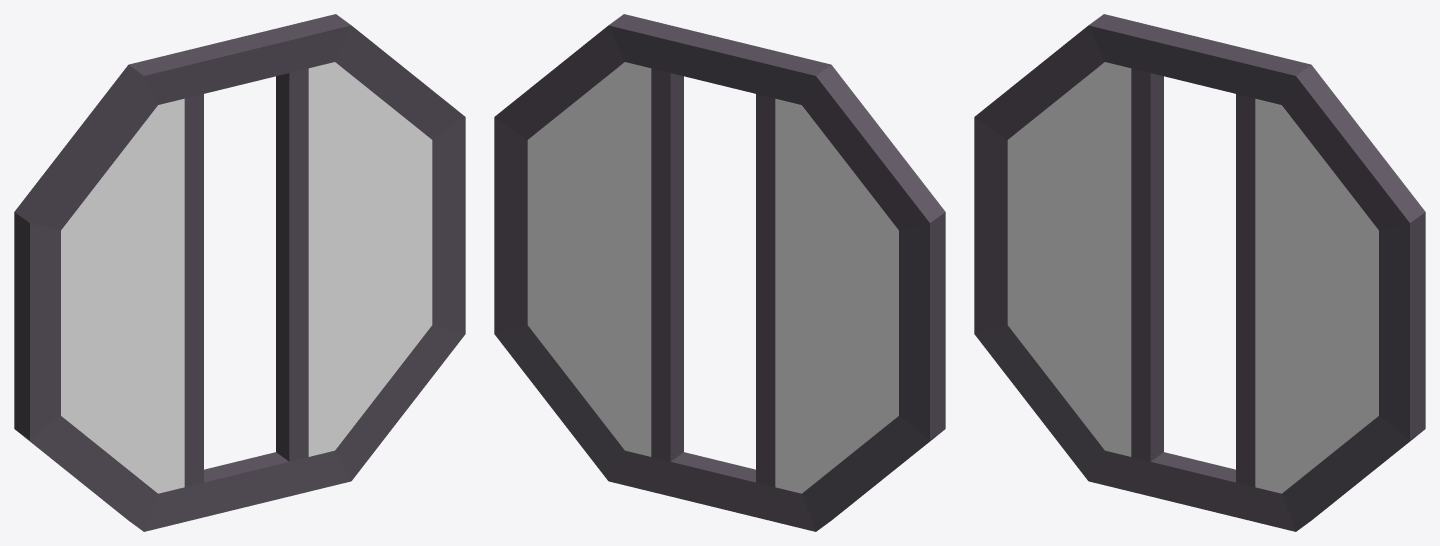
The model's file is Obstacle04.fbx.
The picture shows the model from 3 angles, left to right: view 1: azimuth 30°, elevation 25°; view 2: azimuth 150°, elevation 25°; view 3: azimuth 330°, elevation 25°; orthographic projection.
Visible parts, largest first — view 1: Obstacle04; view 2: Obstacle04; view 3: Obstacle04.
Boxes of the visible parts, box(x1,y1,x2,y2) form: Obstacle04: box(14, 14, 465, 531); Obstacle04: box(494, 14, 945, 531); Obstacle04: box(974, 14, 1425, 531).
Size of the model in its own units: 49.27 by 49.27 by 3.05.
